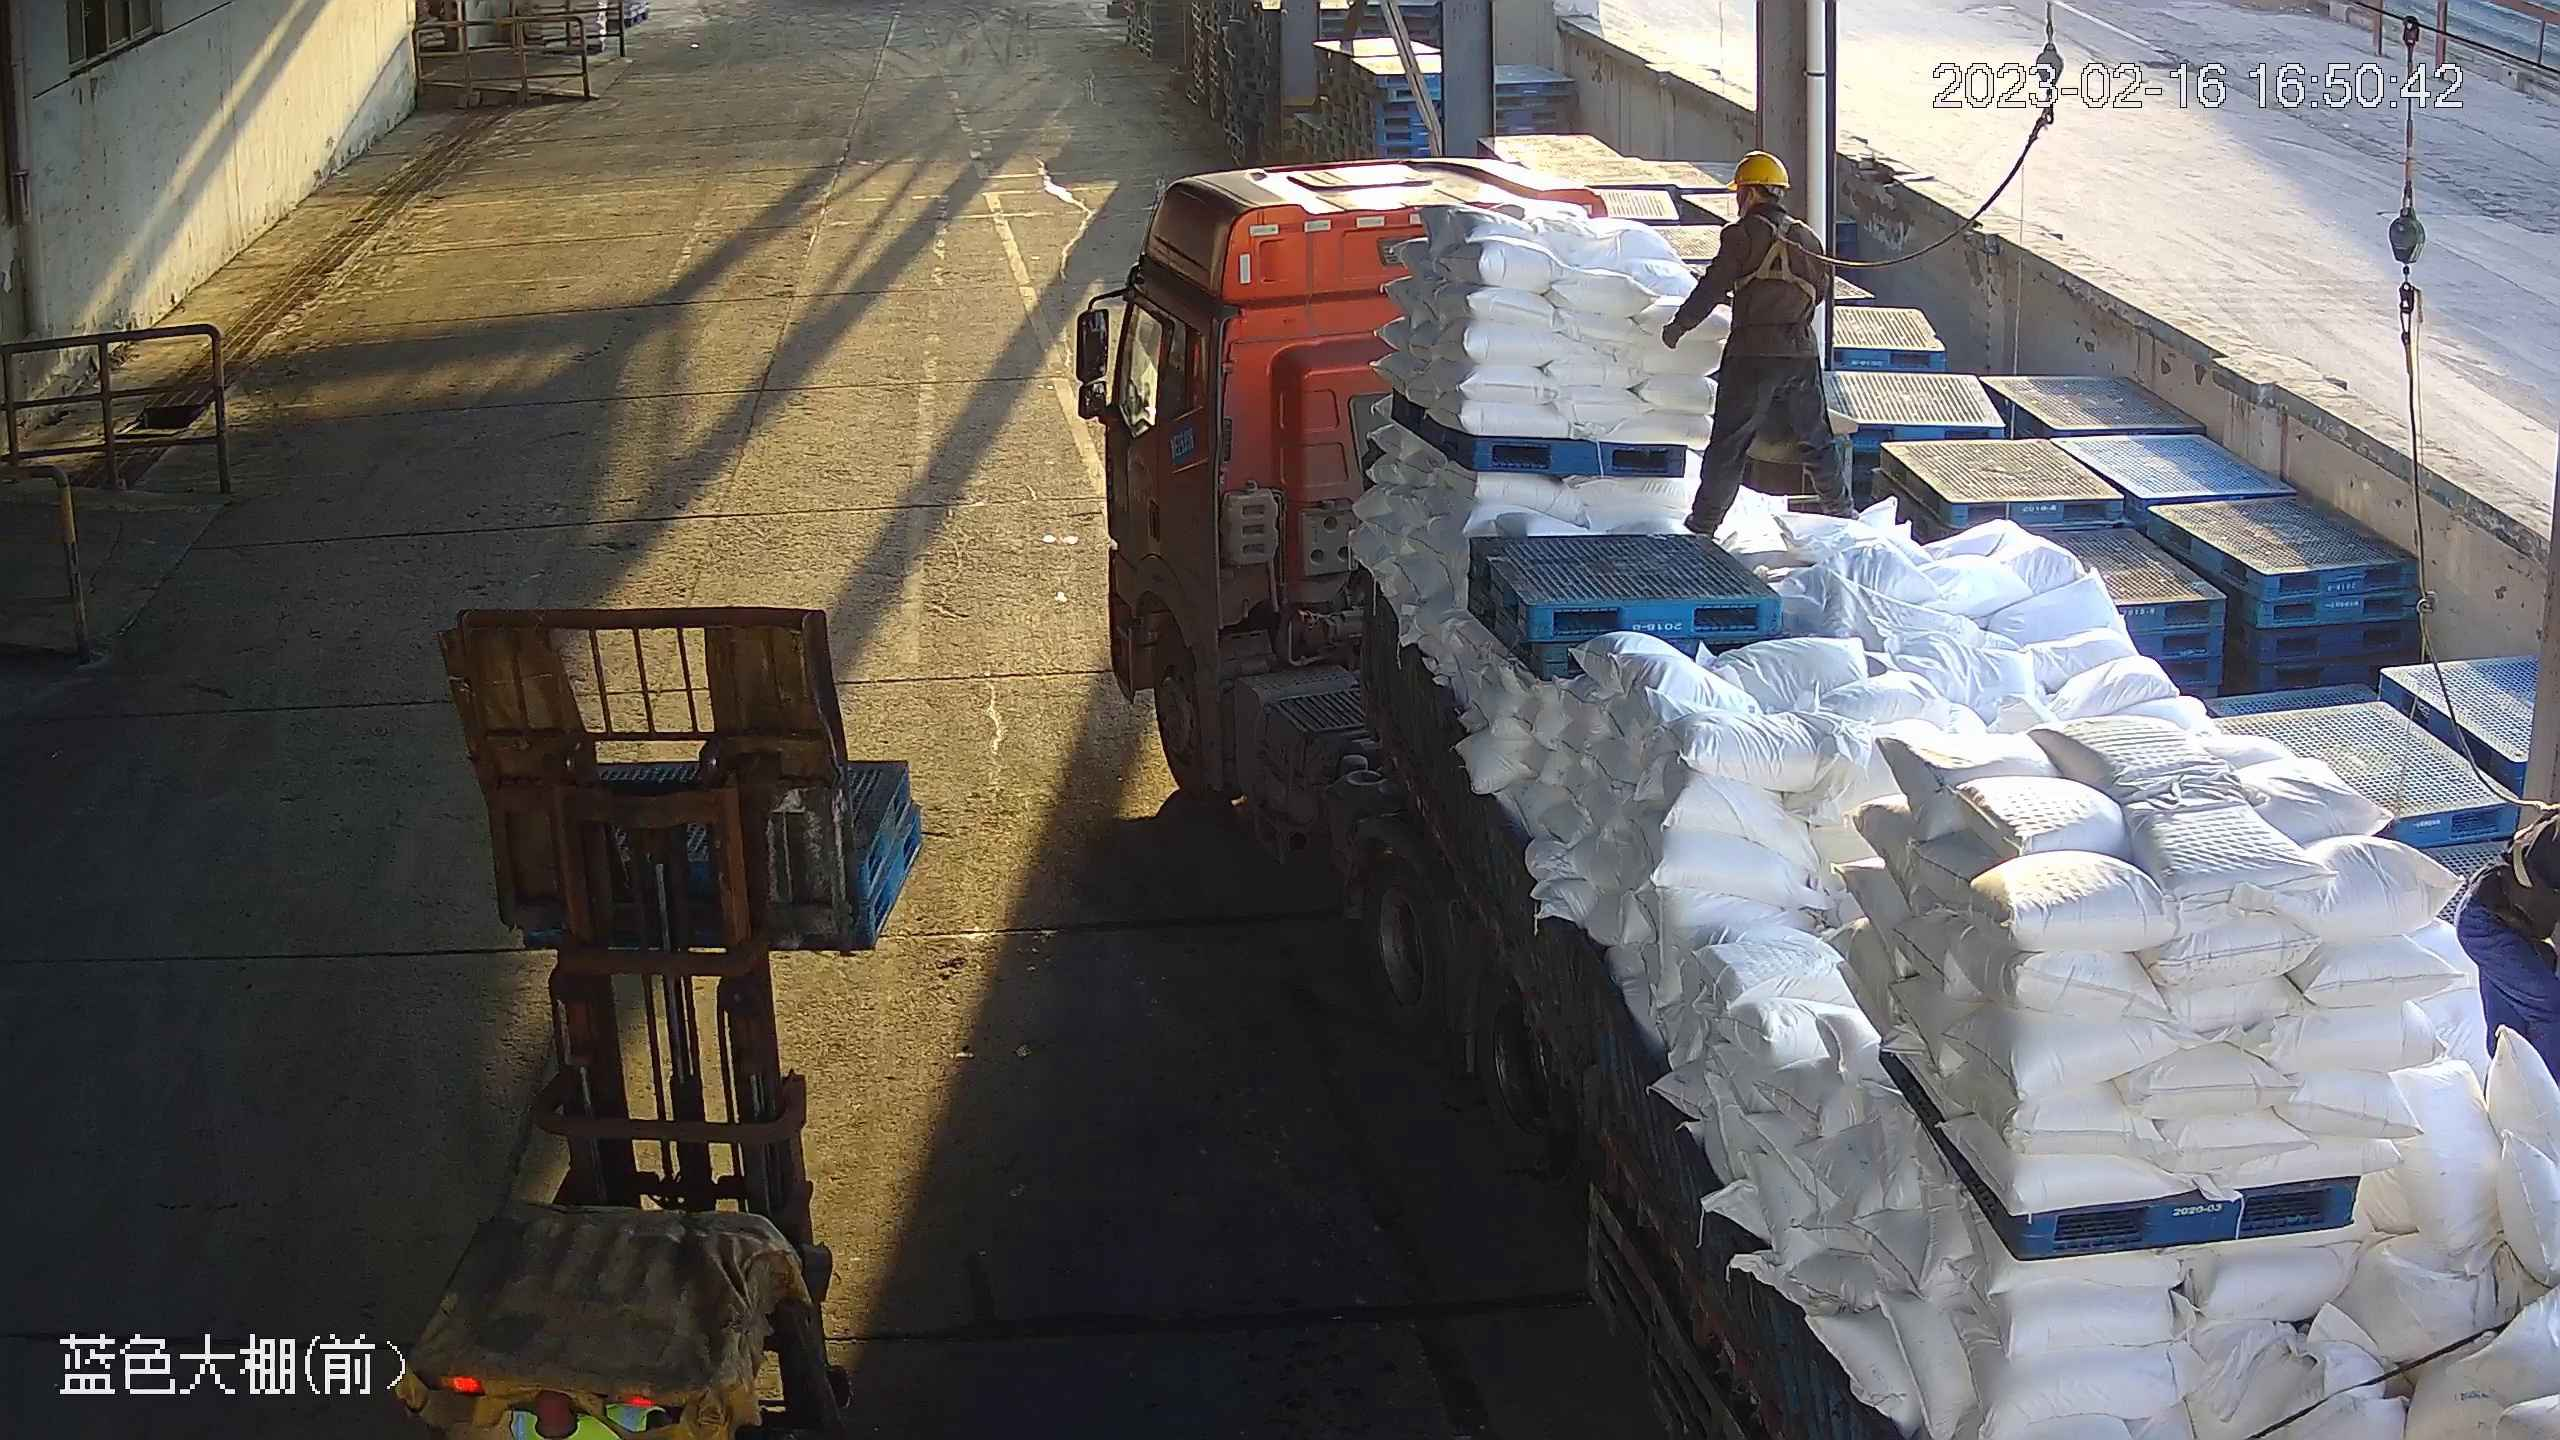belt: (1731, 212, 1820, 302)
head: (1720, 151, 1824, 265)
helmet: (1726, 150, 1791, 190)
people: (1660, 147, 1861, 537)
truck: (1074, 157, 2560, 1440)
